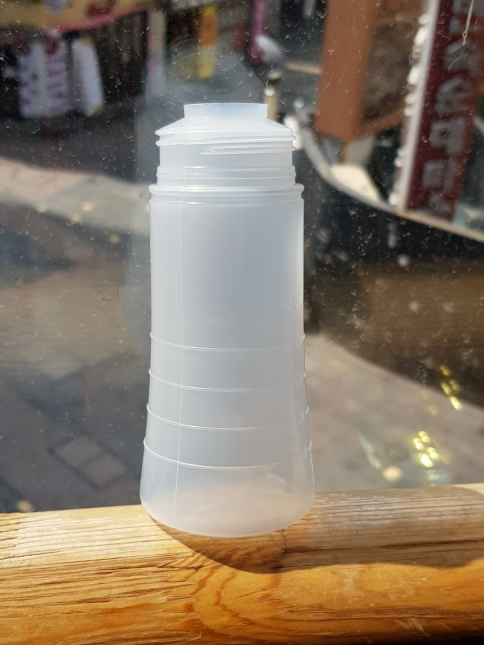Plastic: (139, 99, 318, 536)
